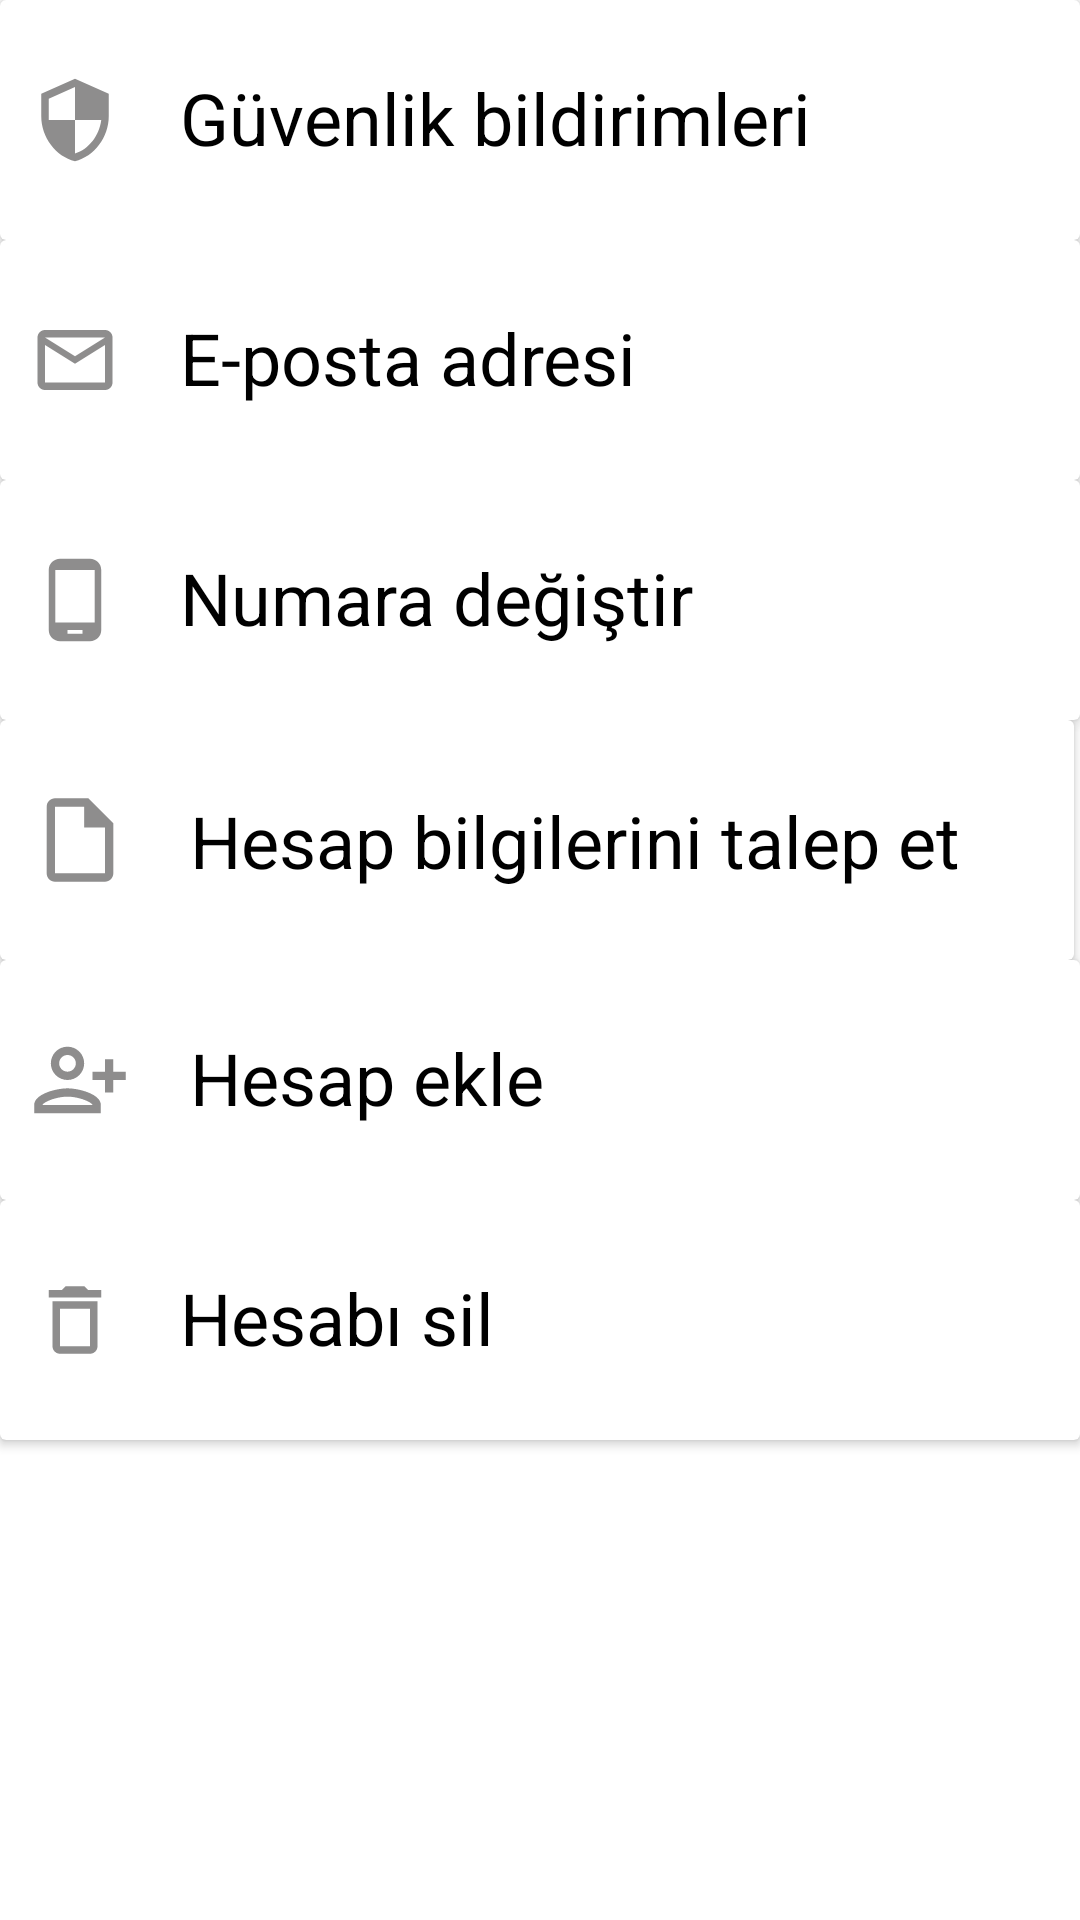

Point at icon controls on the screen. Image size 1080×1920, points as [x,y].
delete: [75,1320]
email: [75,360]
guvenlik bildirim resim: [75,120]
kosullar: [80,840]
person add: [80,1080]
phone: [75,600]
